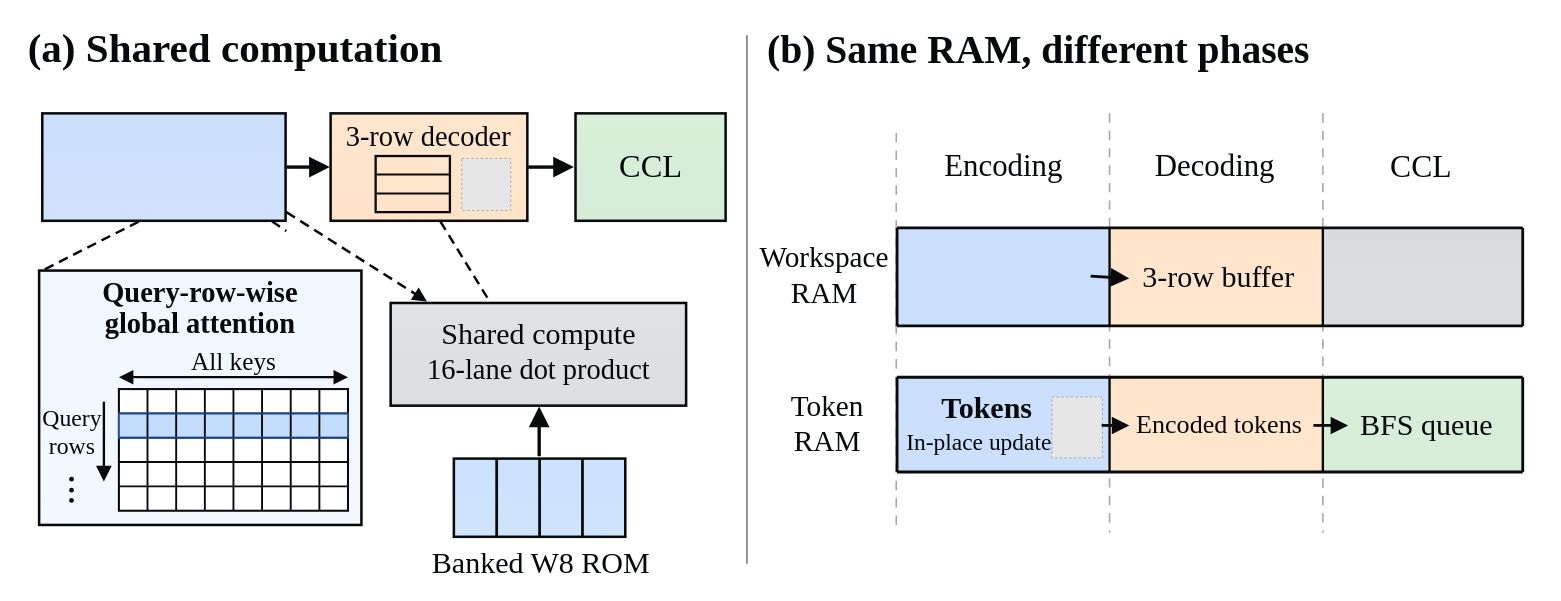
The diagram is 1561 pixels wide and 601 high, and some of its shapes have lost their labels. Grey dashed boxes stand in for pictures. The shapes that lost their labels are listed below. From the top down, each one's centre as x and y in pixels, then its label:
At point (163, 167): "Patch + encoder".
At point (1003, 276): "Q/K/V".
